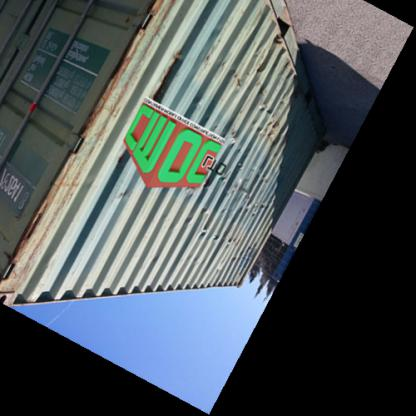Damage: (254, 100, 286, 154), (217, 54, 247, 92), (187, 203, 213, 241), (214, 158, 236, 198), (111, 183, 135, 211), (245, 199, 272, 223), (226, 241, 242, 269), (272, 31, 284, 65)
